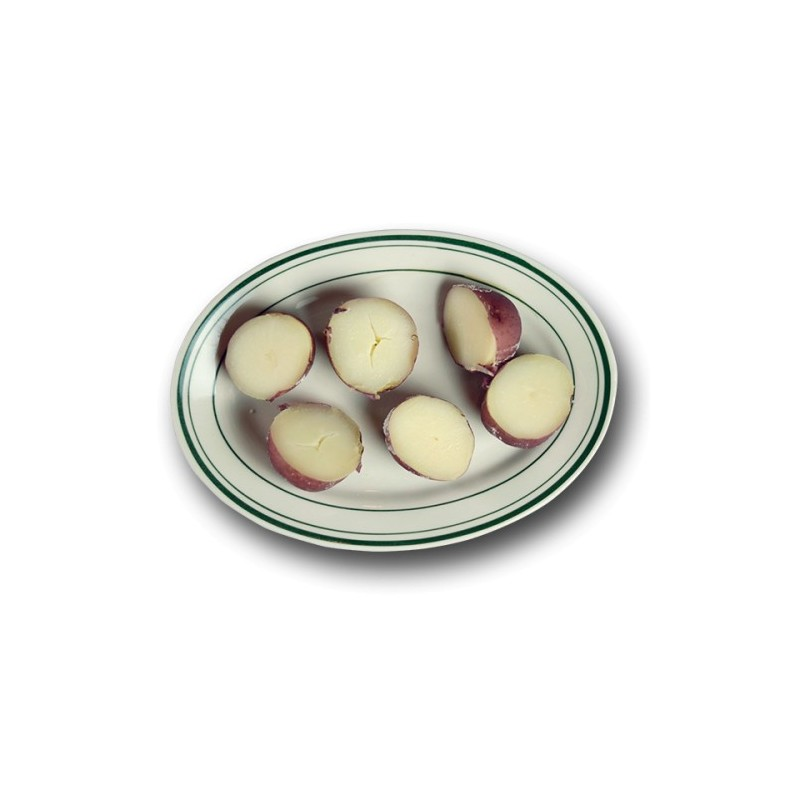boiled potatoes: (330, 298, 416, 394), (213, 316, 309, 401), (386, 400, 483, 479), (271, 406, 362, 486), (486, 362, 571, 445), (443, 287, 516, 375)
